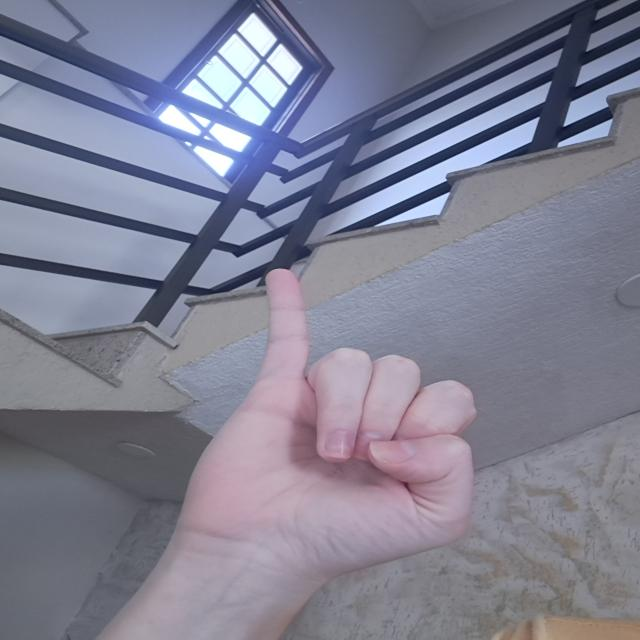I: (183, 257, 499, 588)
